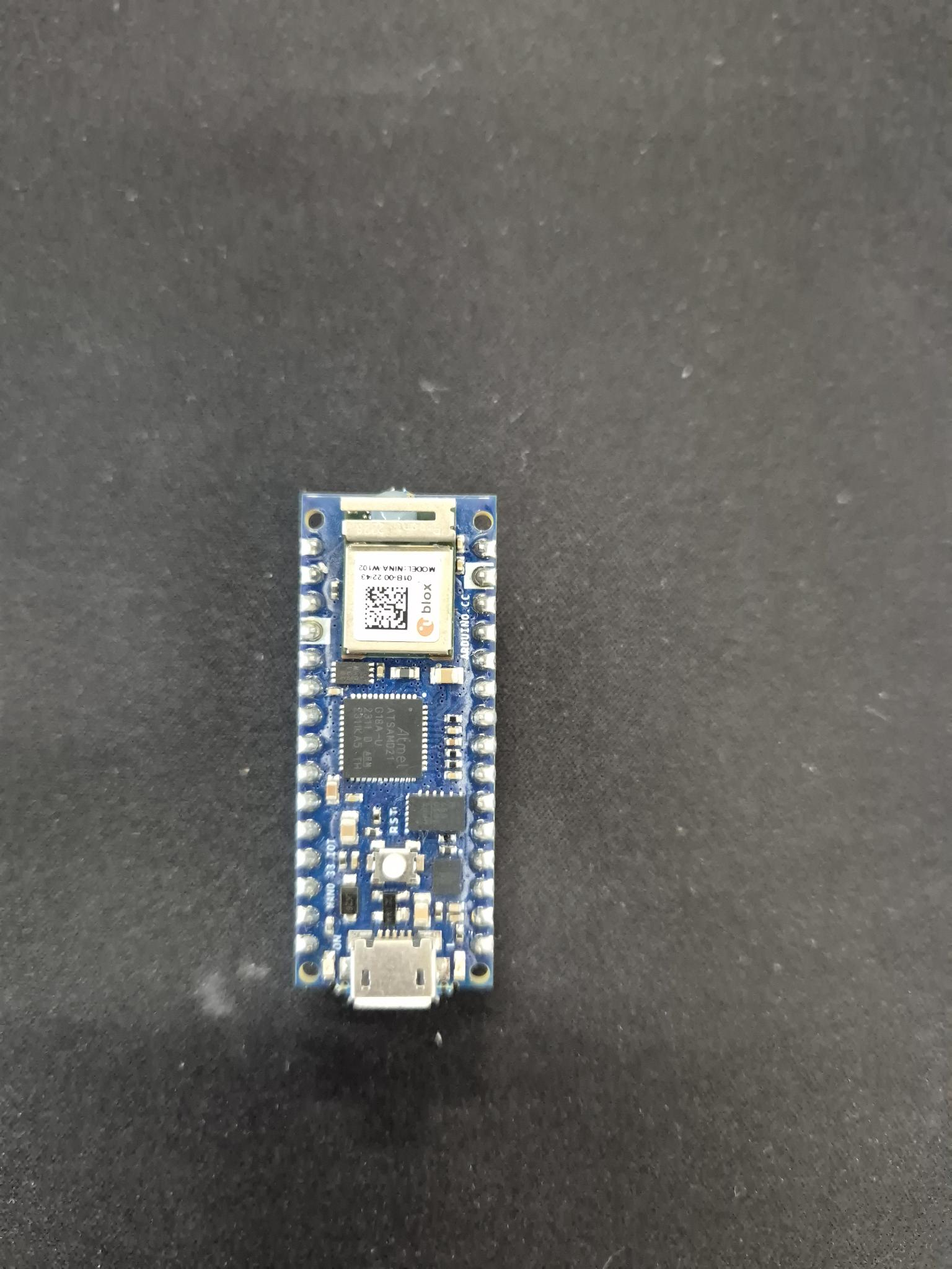arduino-nano-iot-33: (295, 490, 496, 1009)
